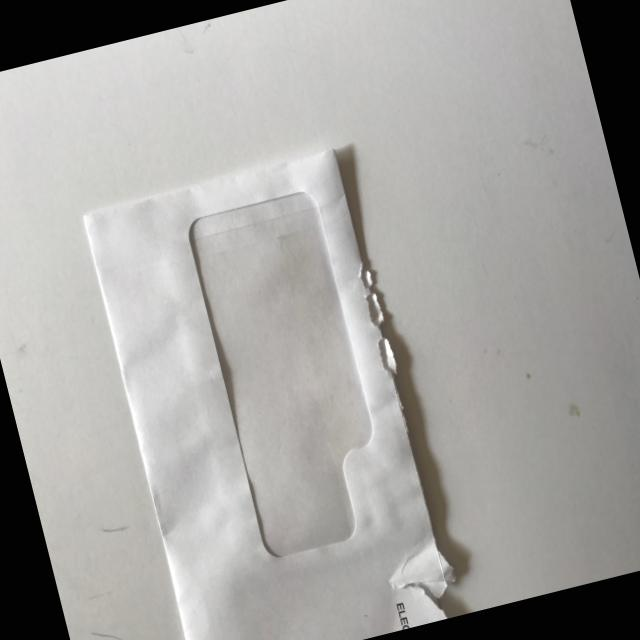Paper: (33, 100, 528, 640)
